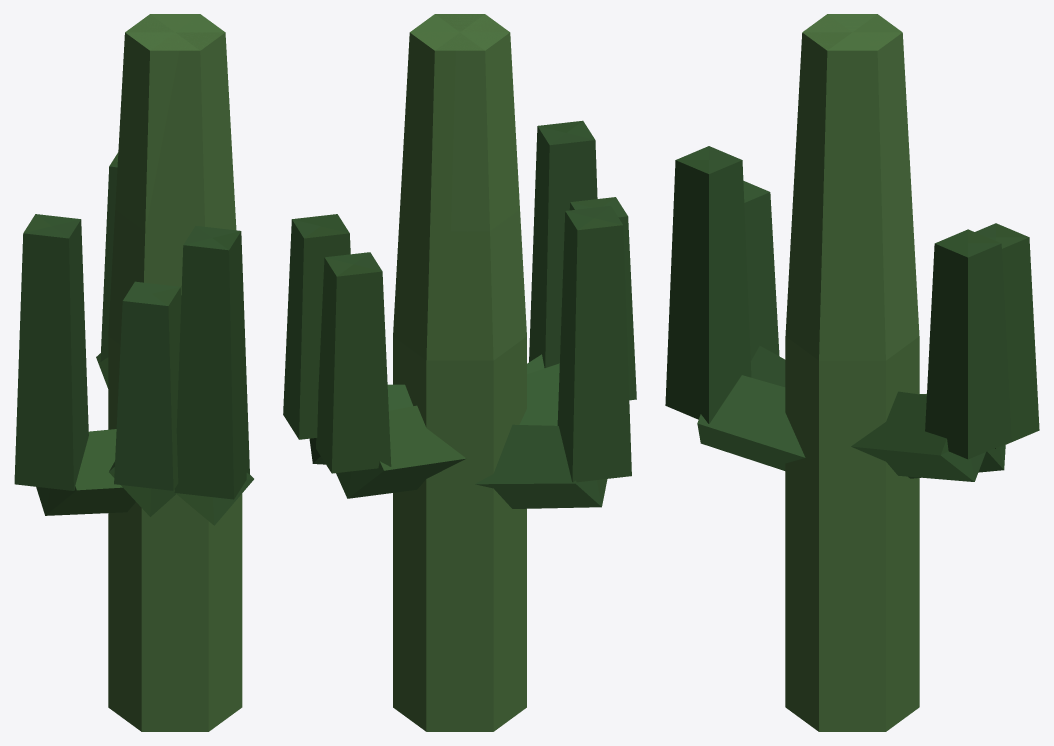
The model's file is cactus.glb.
3 views of the same model, side by side, from view 1: azimuth 30°, elevation 25°; view 2: azimuth 150°, elevation 25°; view 3: azimuth 270°, elevation 25° (orthographic).
Parts seen in each view (by area): view 1: cactus-a, cactus-b, cactus-c; view 2: cactus-a, cactus-b, cactus-c; view 3: cactus-b, cactus-c, cactus-a.
Part boxes in pixels (x1=…): cactus-a: x1=14, y1=14, x2=225, y2=731; cactus-b: x1=96, y1=14, x2=253, y2=731; cactus-c: x1=109, y1=281, x2=181, y2=516; cactus-a: x1=410, y1=14, x2=631, y2=731; cactus-b: x1=316, y1=14, x2=597, y2=731; cactus-c: x1=283, y1=197, x2=636, y2=464; cactus-b: x1=665, y1=14, x2=1039, y2=731; cactus-c: x1=743, y1=180, x2=1011, y2=481; cactus-a: x1=802, y1=14, x2=902, y2=50.
Bounding box in the file's own units: 0.3319 × 0.75 × 0.3767.
